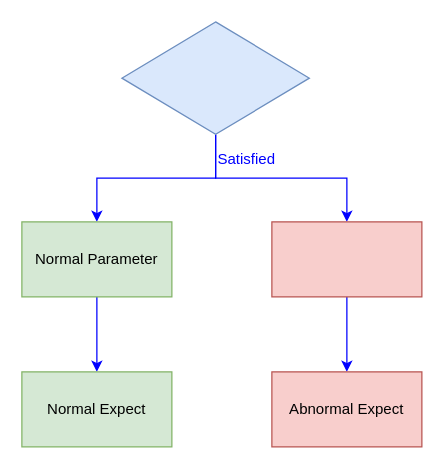
The diagram is 444 pixels wide and 469 high, and some of its shapes have lost their labels. Here are the shapes that lost their labels. From the top down, the centre of each, then its label:
At [215,77]: "Precondition".
At [346,259]: "Abnormal Parameter".
